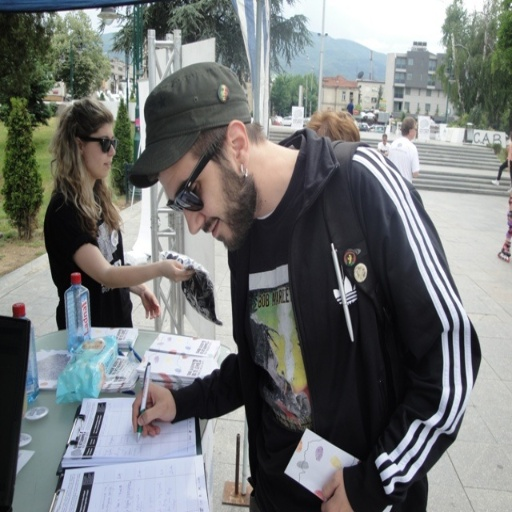hand: (129, 377, 176, 438), (319, 467, 356, 510), (161, 258, 196, 284), (139, 284, 161, 320)
